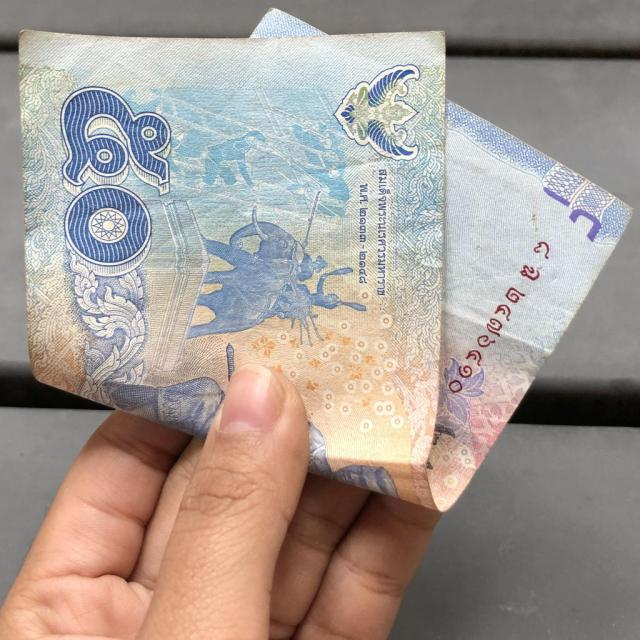THAI50: (19, 10, 628, 511)
